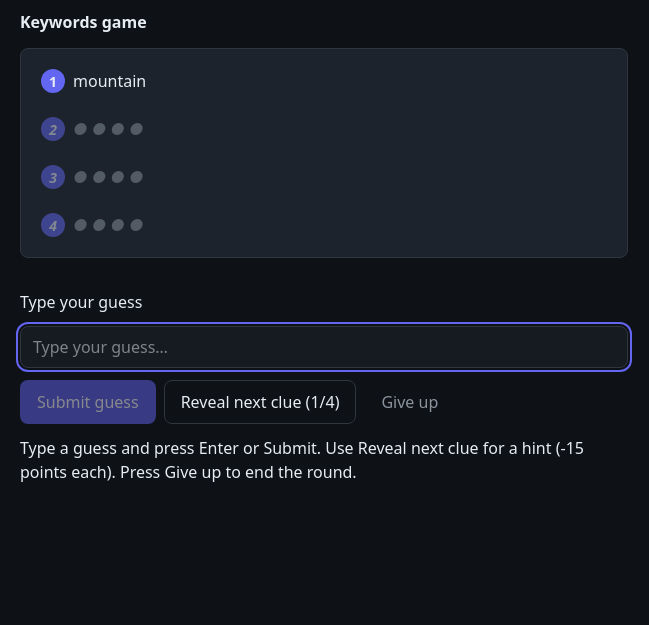
Test: KeywordsGame — correct guess › accepts the correct target and records a solved result
Step 1. Type "Volcano" into the text box labelled "Type your guess" → (324, 347), box [20, 326, 628, 368]
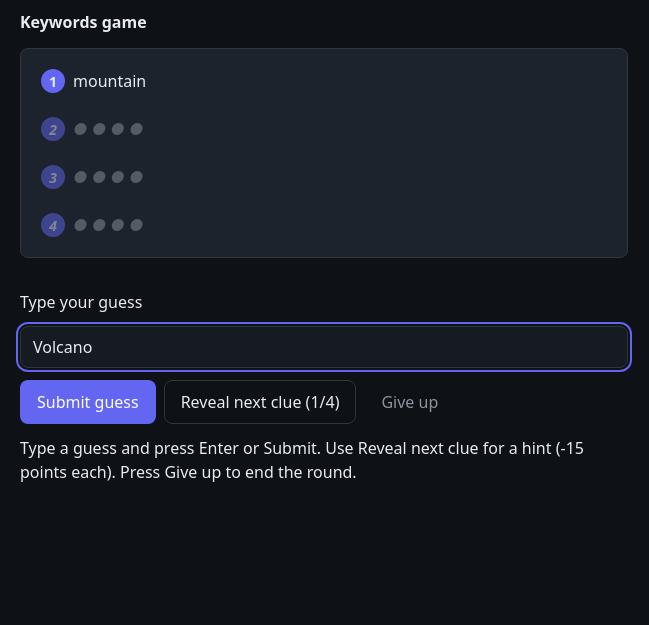
Step 2. Click the button "Submit guess" → (88, 402), box [20, 380, 156, 424]
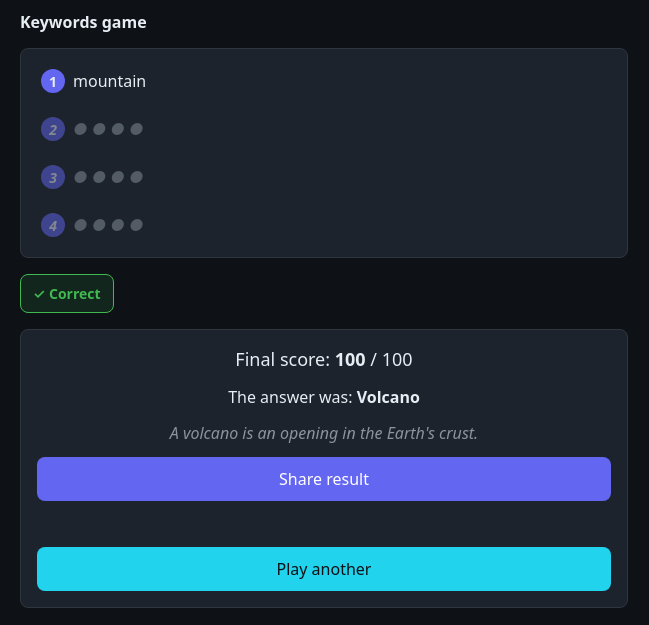
Expected: the text "100" is shown, [335, 347, 366, 371]
Expected: the text "Volcano" is shown, [357, 386, 420, 408]
